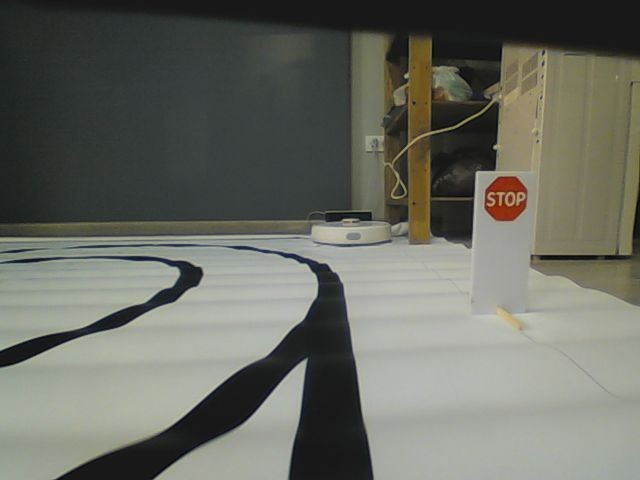Stop: (482, 173, 529, 222)
